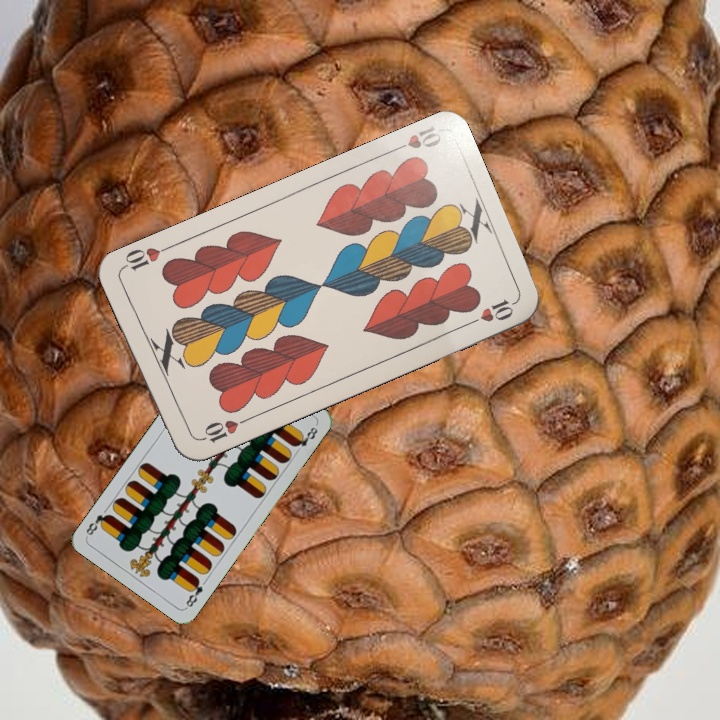E8: (182, 574, 205, 610)
H10: (386, 122, 444, 156), (194, 414, 251, 446)
